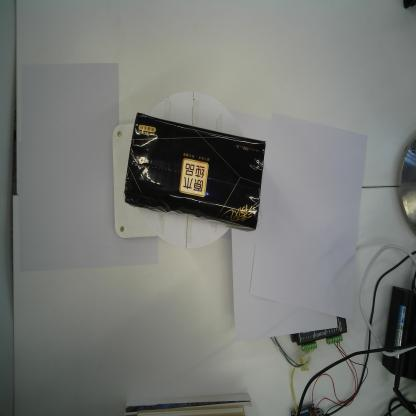Tissue: (124, 111, 268, 231)
